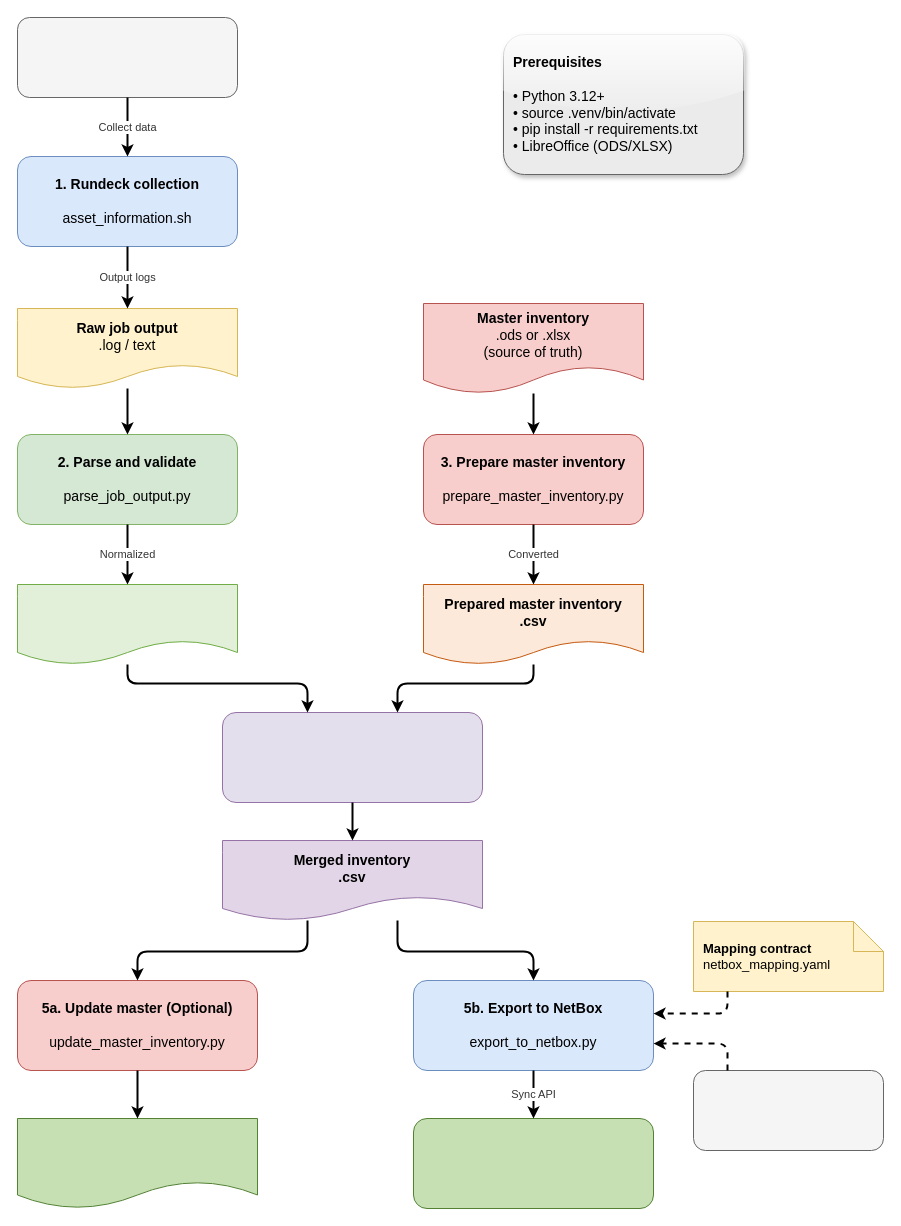
Some shapes in this 901 by 1226 pixel diagram are drawn without their labels. The shapes that lost their labels are listed below. From the top down, each one's centre as x and y in pixels, then its label:
At (127,57): "Target nodes Physical servers, VMs, hypervisors".
At (127,624): "Parsed inventory .csv".
At (352,757): "4. Merge inventories merge_inventories.py".
At (788,1110): "Environment variables NETBOX_URL NETBOX_TOKEN".
At (137,1163): "Updated master copy .ods or .xlsx".
At (533,1163): "NetBox 4.6+ Central infrastructure inventory".
